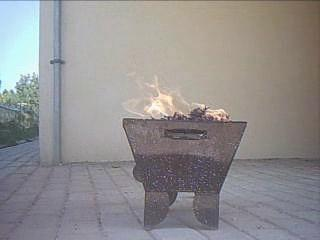fire: (116, 71, 243, 122)
